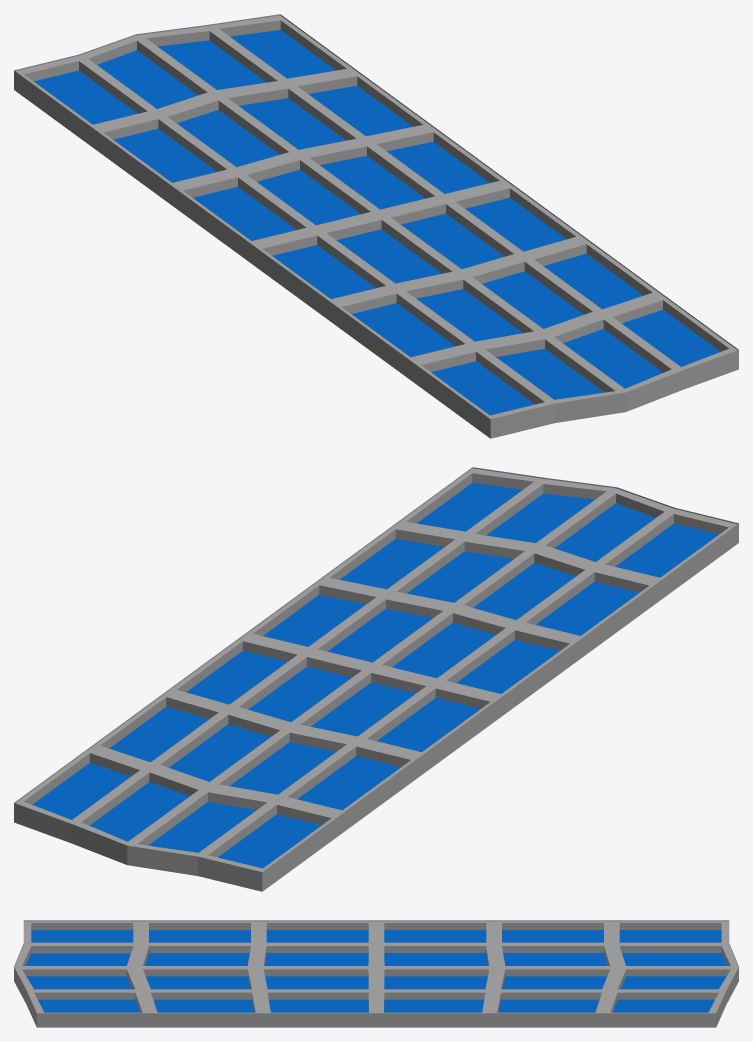
File: solarpanel3.fbx
The picture shows the model from 3 angles, top to bottom: view 1: azimuth 30°, elevation 25°; view 2: azimuth 150°, elevation 25°; view 3: azimuth 270°, elevation 25°; orthographic projection. The views are drawn at different scales.
Visible parts, largest first — view 1: pCube3; view 2: pCube3; view 3: pCube3.
Boxes of the visible parts, x1,y1,x2,y2 form: pCube3: (14, 14, 738, 438); pCube3: (14, 467, 738, 891); pCube3: (14, 920, 738, 1027).
Size of the model in its own units: 2.04 by 0.1487 by 6.73.
